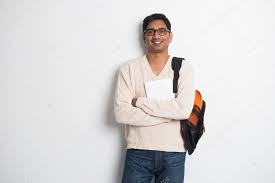Indian_Male: (145, 20, 174, 57)
